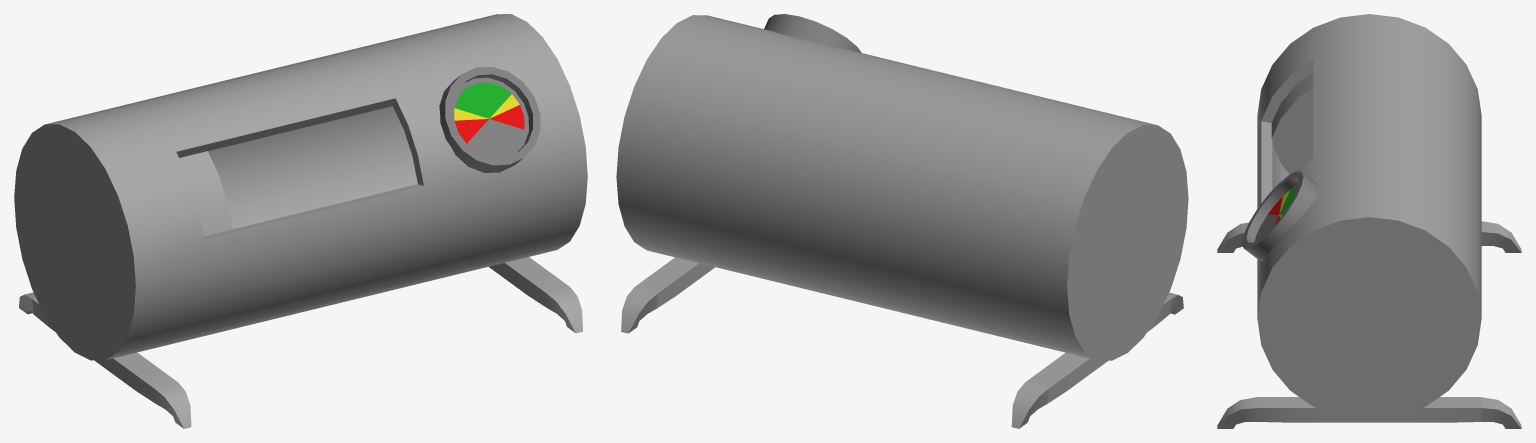
Rendered from Assets.fbx.
3 renders of one model, left to right at view 1: azimuth 30°, elevation 25°; view 2: azimuth 150°, elevation 25°; view 3: azimuth 270°, elevation 25°, orthographic. The views are drawn at different scales.
Parts seen in each view (by area): view 1: Oven, Cylinder, lock; view 2: Oven, Cylinder; view 3: Oven, Cylinder, lock.
Boxes of the visible parts, x1,y1,x2,y2 form: Oven: [14, 14, 587, 428]; Cylinder: [439, 66, 540, 172]; lock: [179, 151, 232, 236]; Oven: [616, 15, 1188, 428]; Cylinder: [764, 14, 861, 52]; Oven: [1217, 14, 1521, 428]; Cylinder: [1241, 171, 1319, 261]; lock: [1271, 72, 1313, 146].
Bounding box in the file's own units: 300 × 155 × 190.
